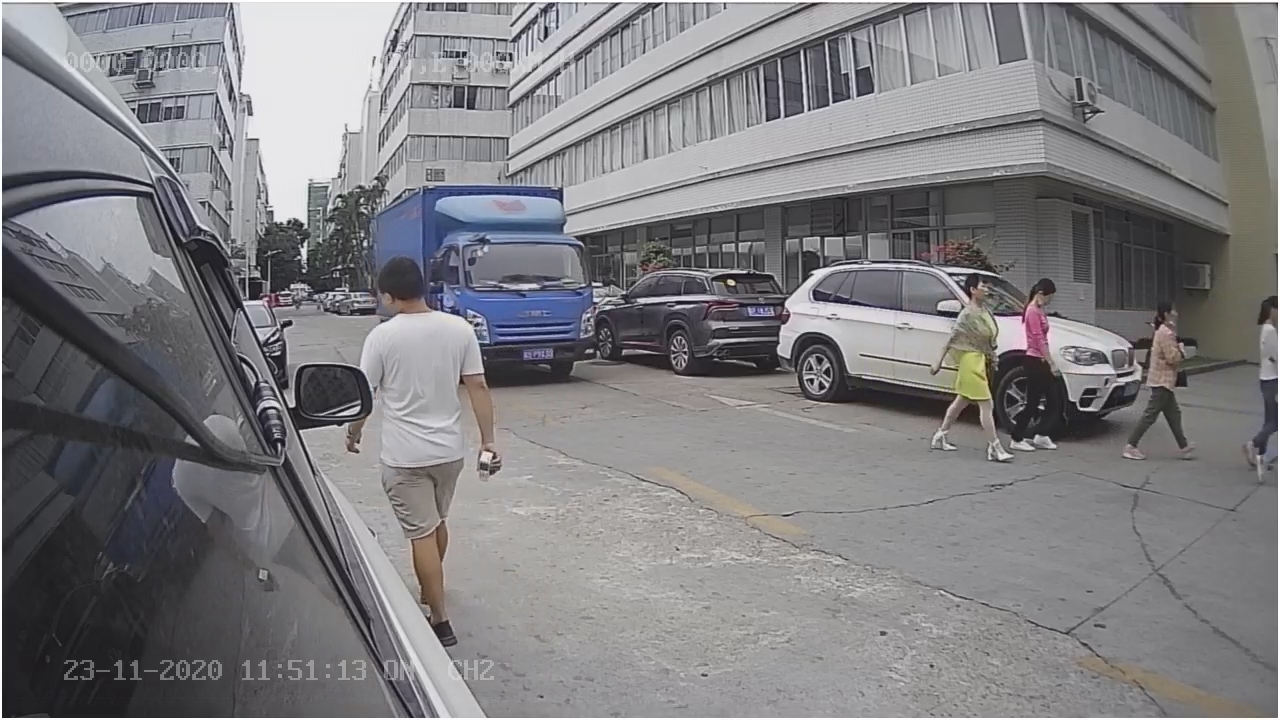person: (927, 260, 1016, 466), (348, 261, 480, 378), (1123, 298, 1205, 462)
